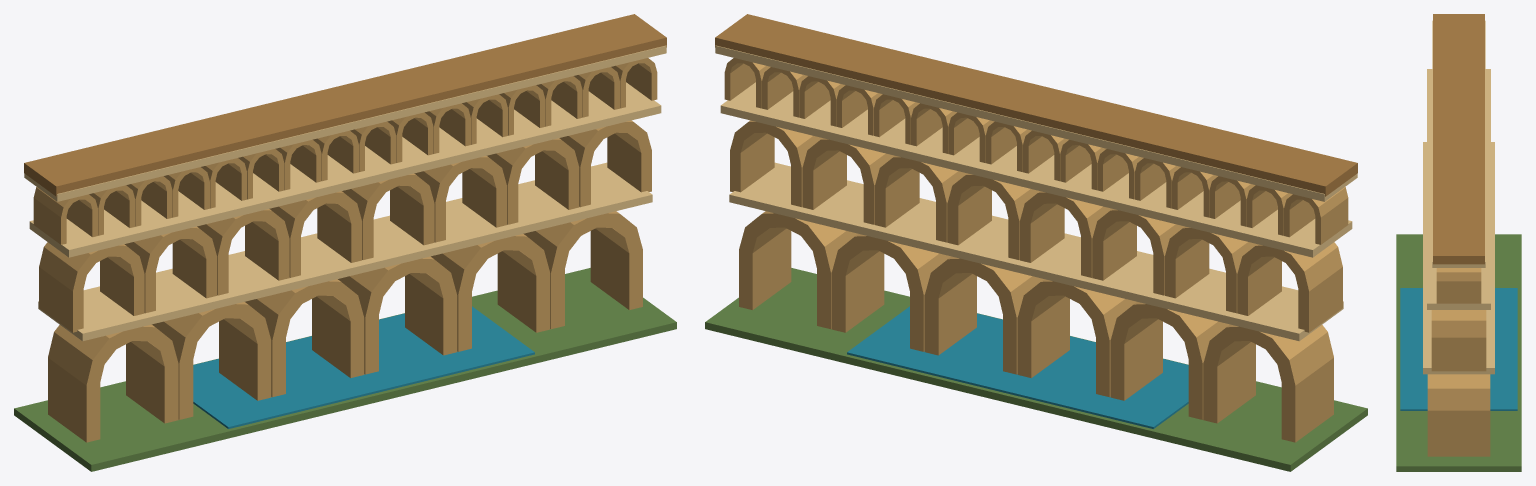
File: pont-du-gard.glb
3 views of the same model, side by side, from view 1: azimuth 30°, elevation 25°; view 2: azimuth 150°, elevation 25°; view 3: azimuth 270°, elevation 25° (orthographic). The views are drawn at different scales.
Parts seen in each view (by area): view 1: body_CBB182, body_DBC396, roof_B5A078, base, river_598D97; view 2: body_CBB182, body_DBC396, roof_B5A078, base, river_598D97; view 3: roof_B5A078, body_CBB182, base, body_DBC396, river_598D97.
Part boxes in pixels (x1=…): body_CBB182: x1=33, y1=58, x2=657, y2=442; body_DBC396: x1=24, y1=45, x2=666, y2=341; roof_B5A078: x1=24, y1=14, x2=666, y2=196; base: x1=14, y1=268, x2=676, y2=471; river_598D97: x1=193, y1=306, x2=534, y2=428; body_CBB182: x1=724, y1=58, x2=1348, y2=442; body_DBC396: x1=715, y1=45, x2=1357, y2=341; roof_B5A078: x1=715, y1=14, x2=1357, y2=196; base: x1=705, y1=268, x2=1367, y2=471; river_598D97: x1=847, y1=306, x2=1188, y2=428; roof_B5A078: x1=1433, y1=14, x2=1484, y2=264; body_CBB182: x1=1427, y1=268, x2=1490, y2=456; base: x1=1396, y1=234, x2=1521, y2=471; body_DBC396: x1=1423, y1=20, x2=1494, y2=374; river_598D97: x1=1400, y1=288, x2=1517, y2=410.
Size of the model in its own units: 1 by 0.4258 by 0.2192.
